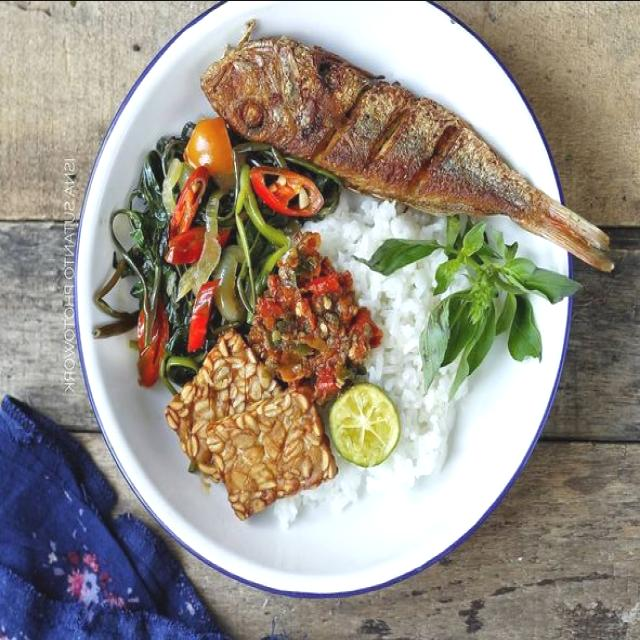ikan goreng: (201, 34, 611, 266)
tempe goreng: (167, 332, 342, 520)
